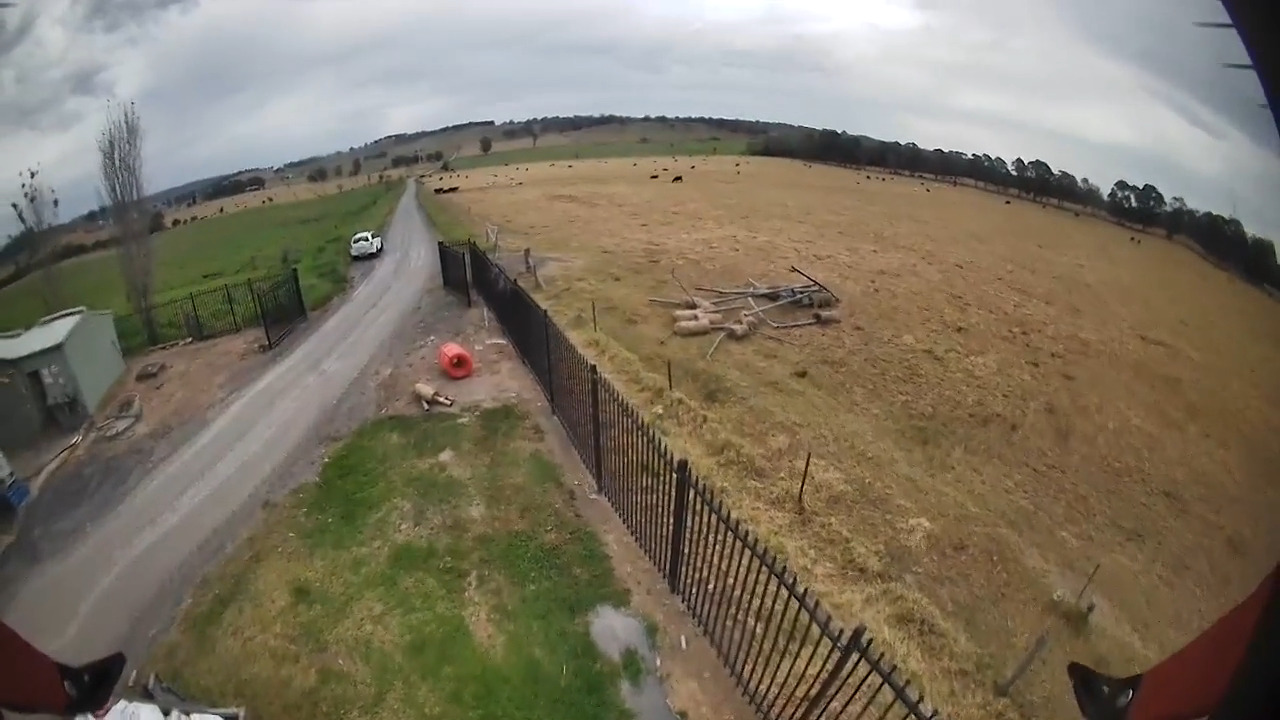Car: (349, 232, 382, 259)
